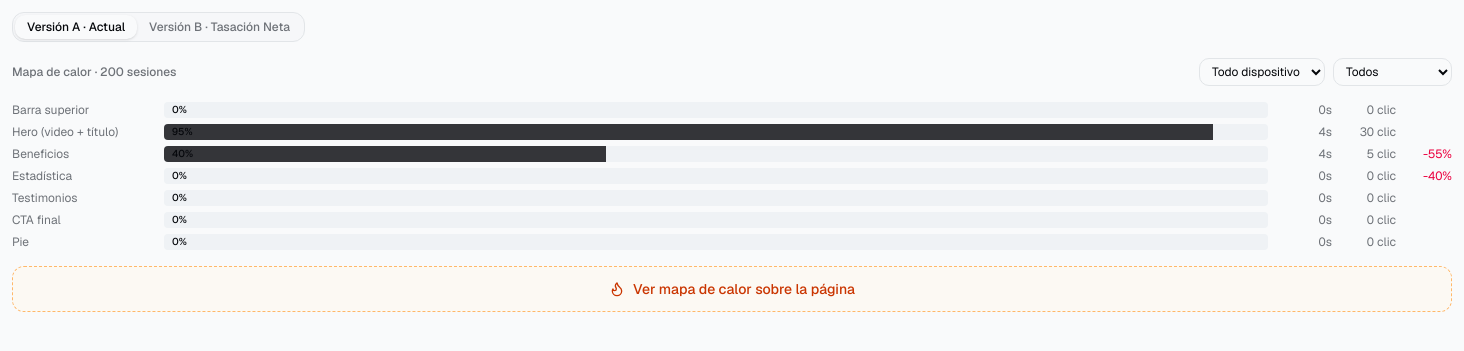
HeatmapPanel — embudo con dos versiones (tasación) › al elegir la B muestra SUS secciones y SUS números, sin mezclar con la A
Click the button "Versión B · Tasación Neta": coordinates (220, 27) top-left (137, 15), bottom-right (302, 39)
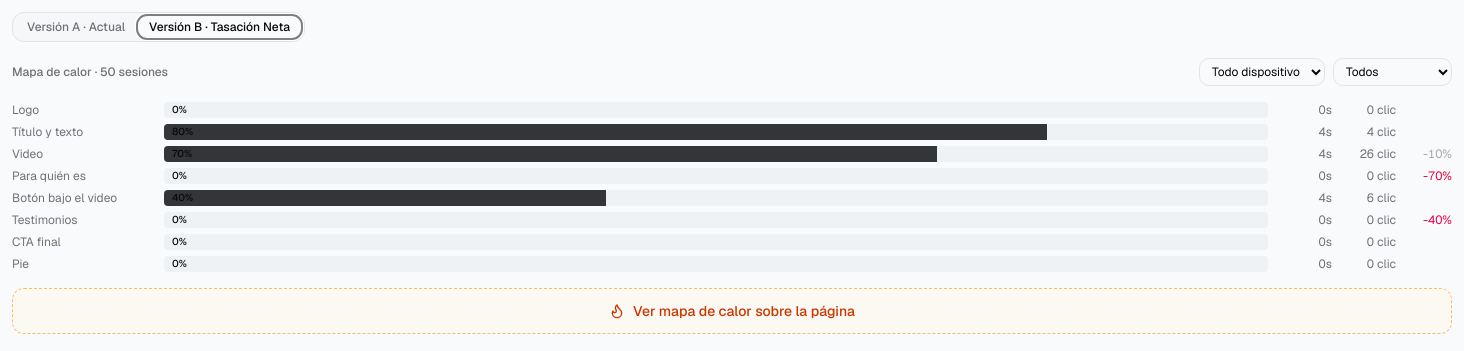
Now the text "Mapa de calor · 50 sesiones" is shown, box top-left (12, 64), bottom-right (168, 80)
Now the text "200 sesiones" is gone
Now the text "Botón bajo el video" is shown, box top-left (12, 190), bottom-right (117, 206)
